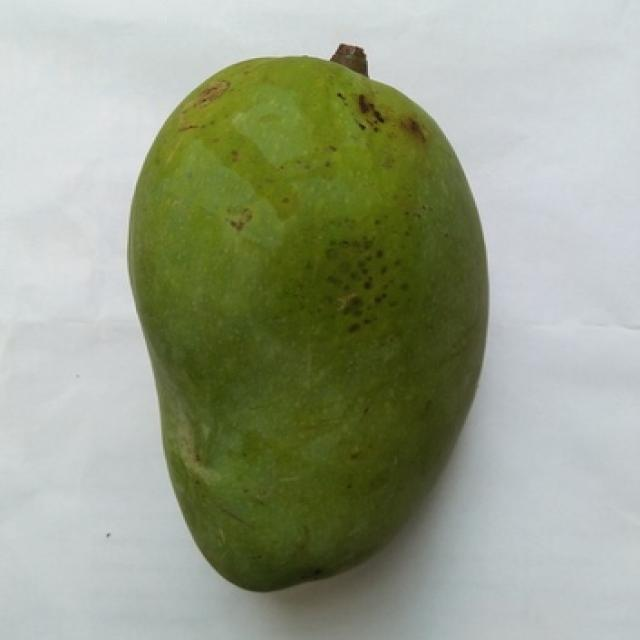Mango: (129, 58, 486, 589)
